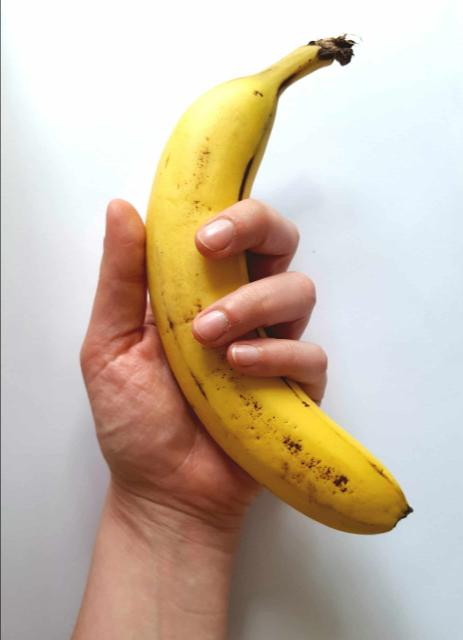Bananas: (145, 34, 410, 534)
